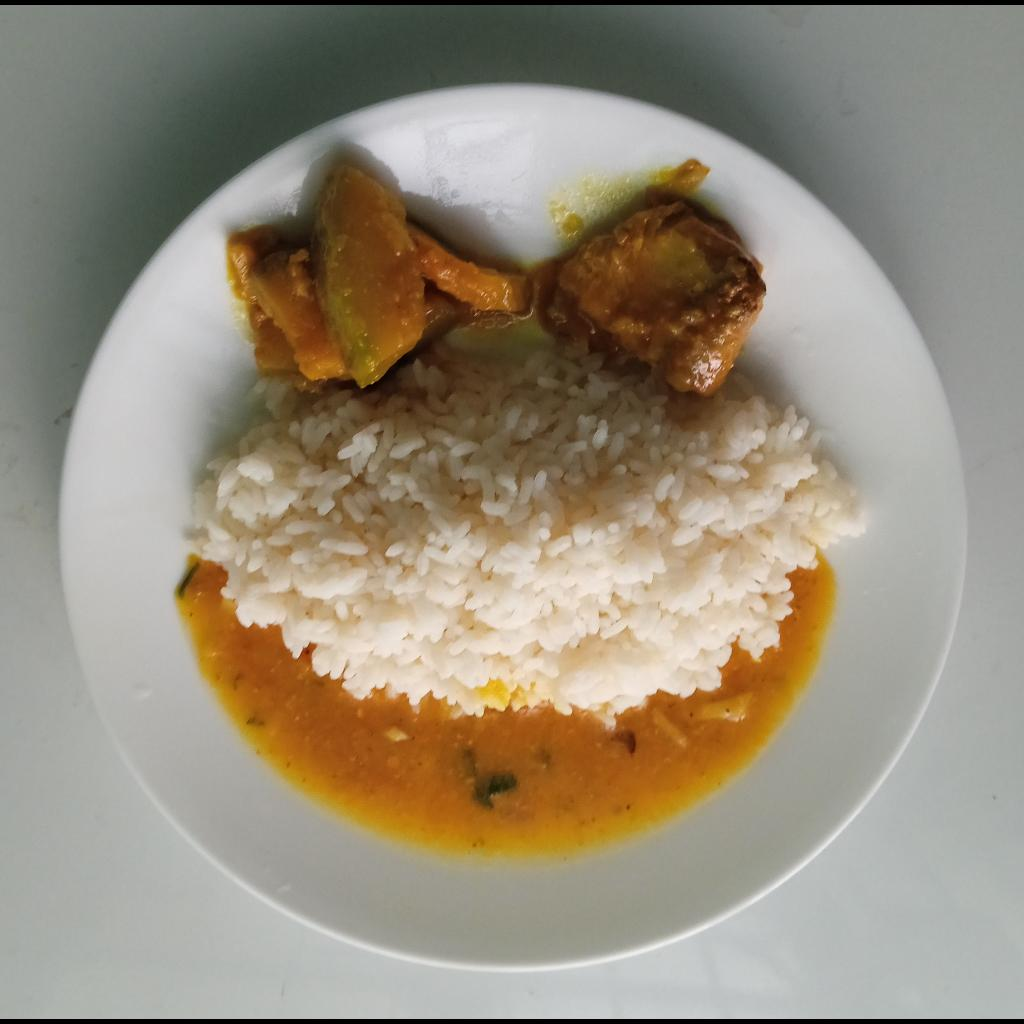chicken: (230, 170, 520, 391), (551, 198, 767, 392)
daal: (176, 557, 830, 870)
rice: (184, 354, 882, 696)
